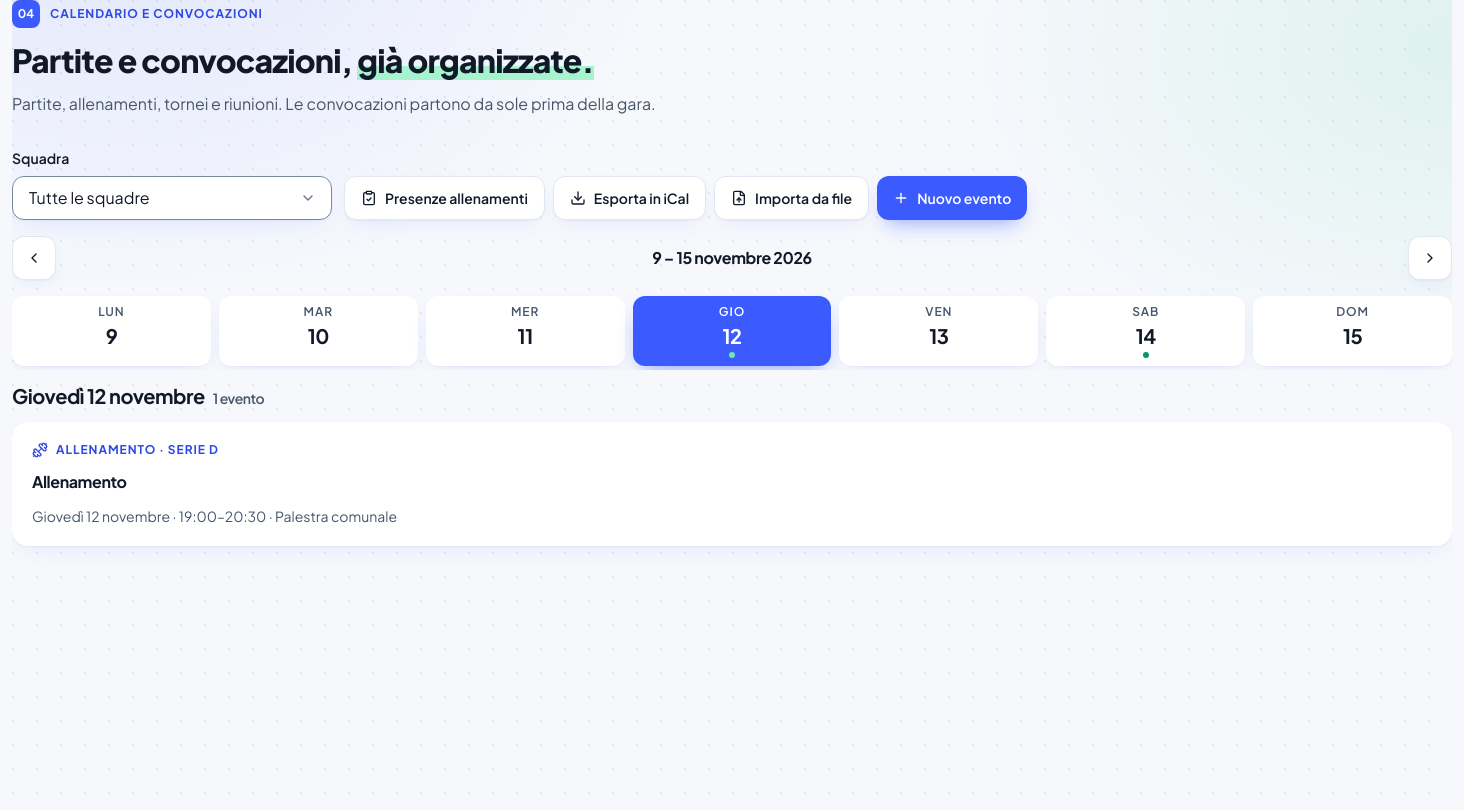
Test: CalendarioPage week view › shows the match card of the selected day with its place in the league and the confirmed count
What coordinates should you click on to do the following:
click the button named "sab 14 novembre, con eventi"
I would click on:
 (1146, 331)
Its box is [1046,296,1245,366].
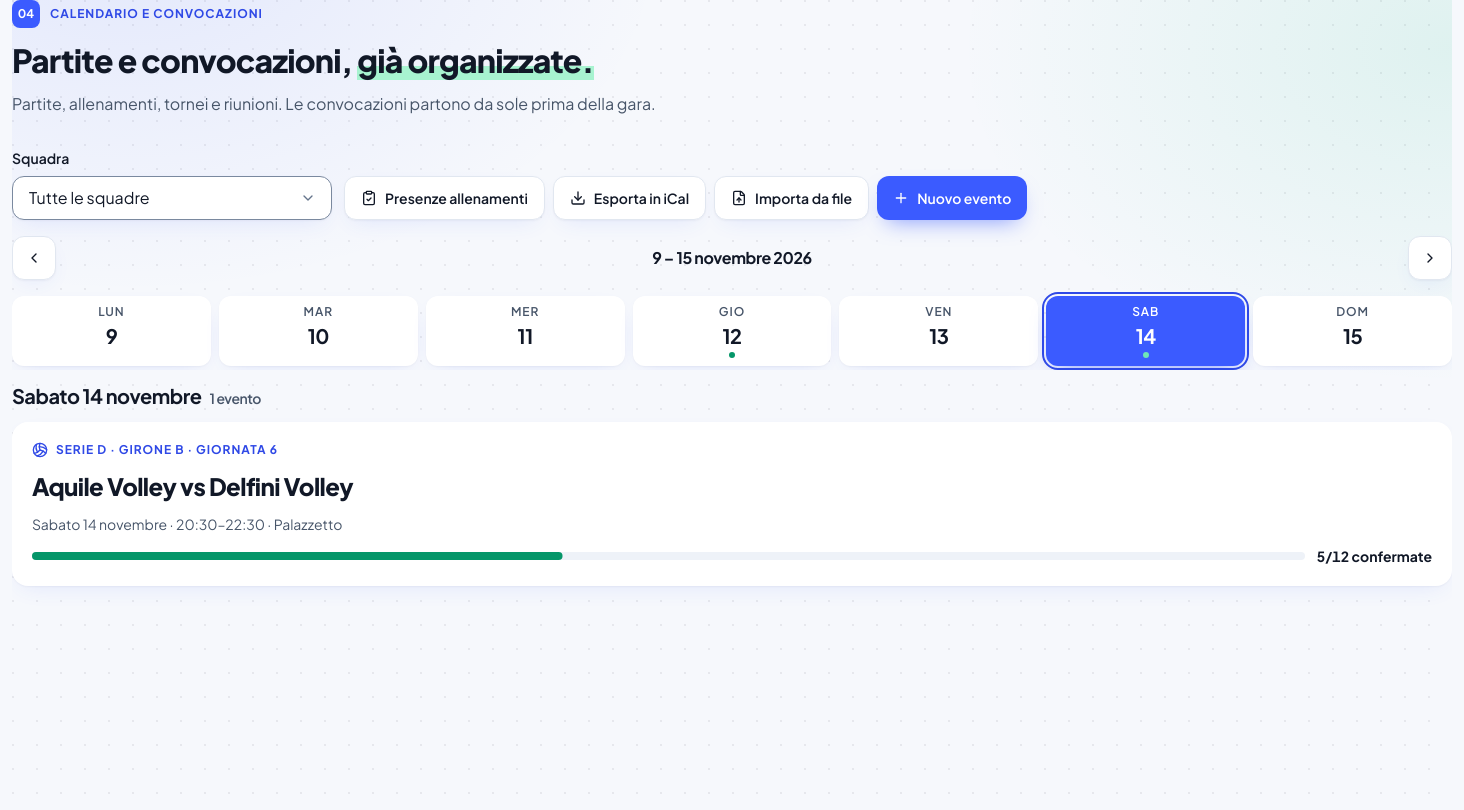
expect the text "Serie D · Girone B · Giornata 6" is shown: met, box [56,442,278,458]
expect the heading "Aquile Volley vs Delfini Volley" is shown: met, box [32,470,353,502]
expect the text "Sabato 14 novembre · 20:30–22:30 · Palazzetto" is shown: met, box [32,515,342,533]
